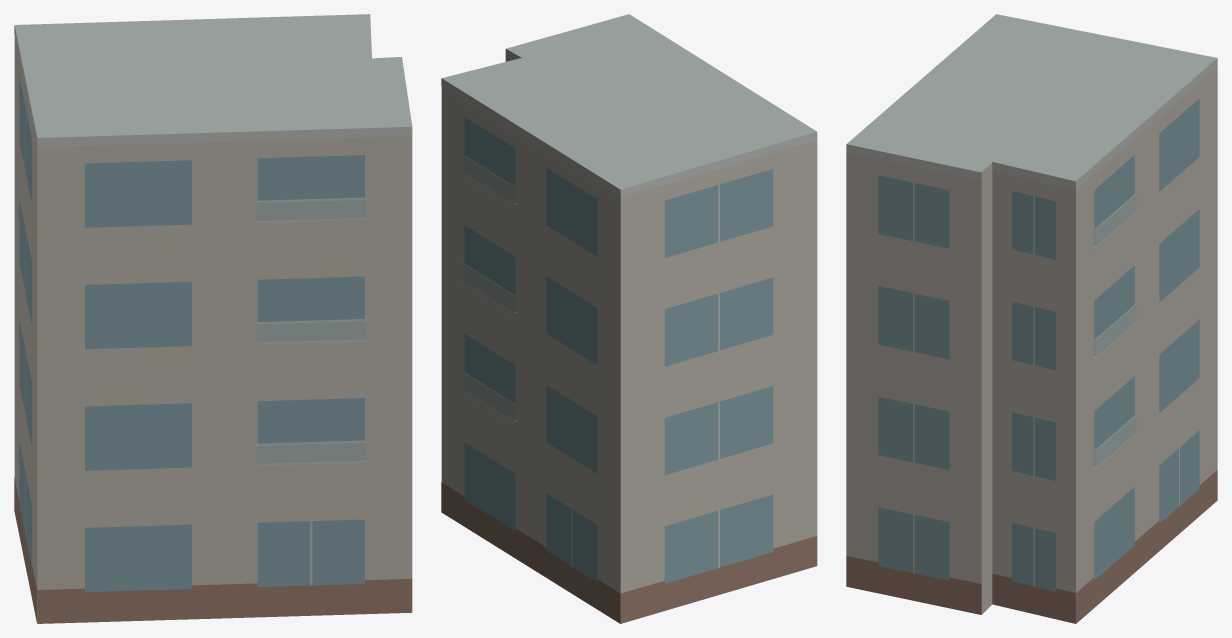
Rendered from survey-upis-32951353.glb.
3 views of the same model, side by side, from view 1: azimuth 30°, elevation 25°; view 2: azimuth 150°, elevation 25°; view 3: azimuth 270°, elevation 25° (orthographic). The views are drawn at different scales.
Parts seen in each view (by area): view 1: survey-upis-32951353.tmp; view 2: survey-upis-32951353.tmp; view 3: survey-upis-32951353.tmp.
Boxes of the visible parts, <box> form: survey-upis-32951353.tmp: <box>14,14,412,623</box>; survey-upis-32951353.tmp: <box>441,14,817,623</box>; survey-upis-32951353.tmp: <box>846,14,1217,623</box>.
Bounding box in the file's own units: 10.39 × 12.8 × 9.74.
